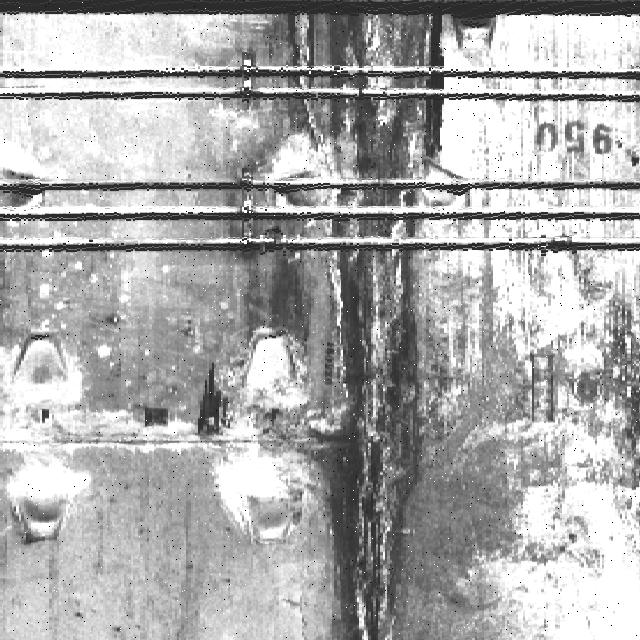leakage: (227, 15, 485, 640)
